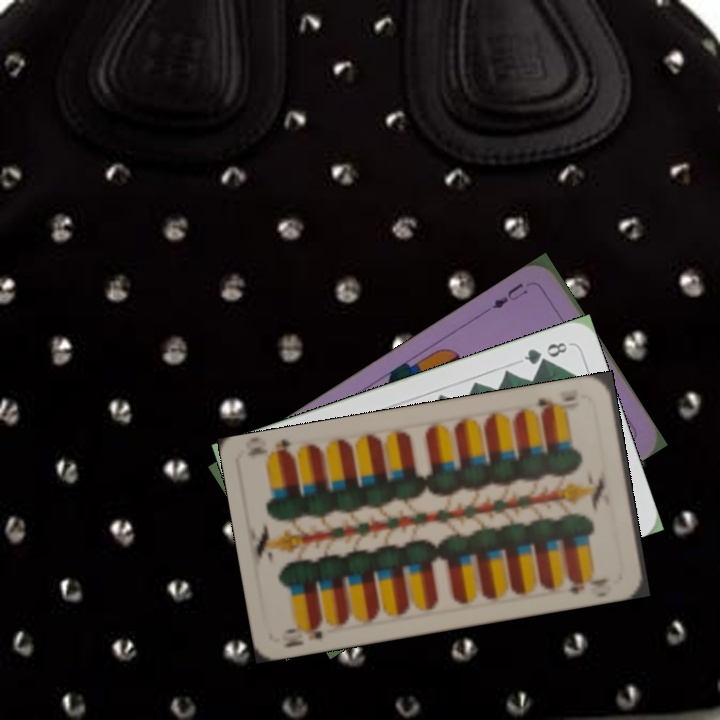E10: (277, 616, 326, 650), (534, 392, 582, 417)
EU: (488, 279, 531, 312)
G8: (519, 338, 570, 367)
